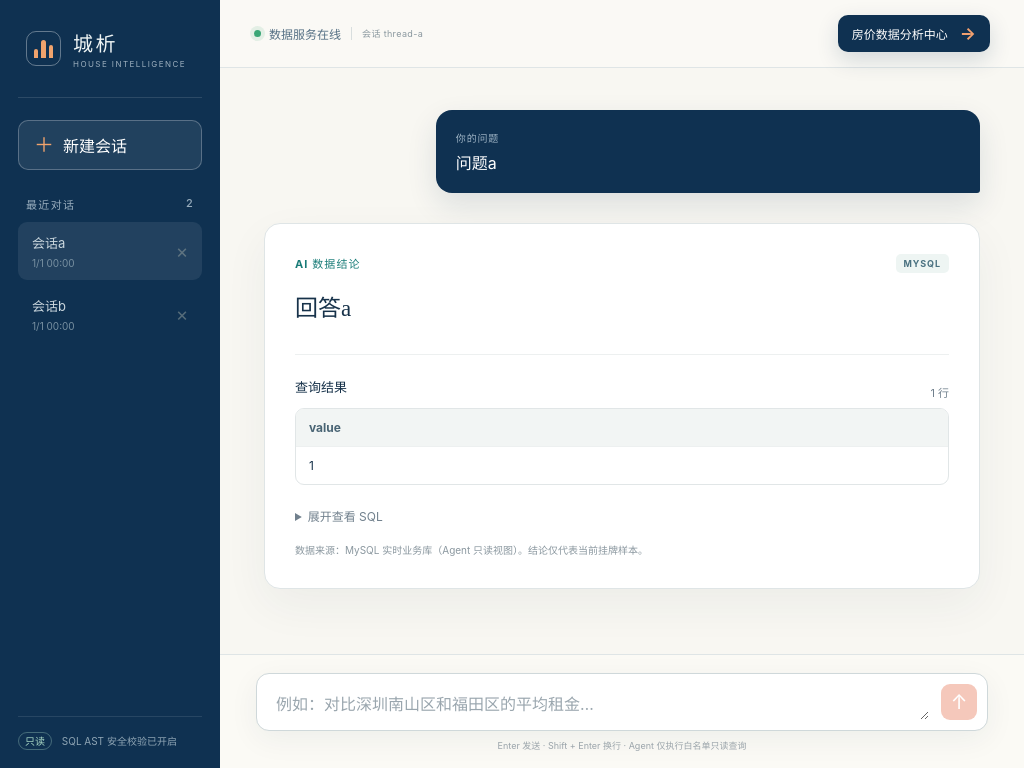
Test case: App conversations › switches between conversations without mixing their turns
The width and height of the screenshot is (1024, 768).
Expected: the text "问题a" is shown, [456, 153, 497, 173]
Click the text "会话b" at (49, 306), box [32, 298, 66, 314]
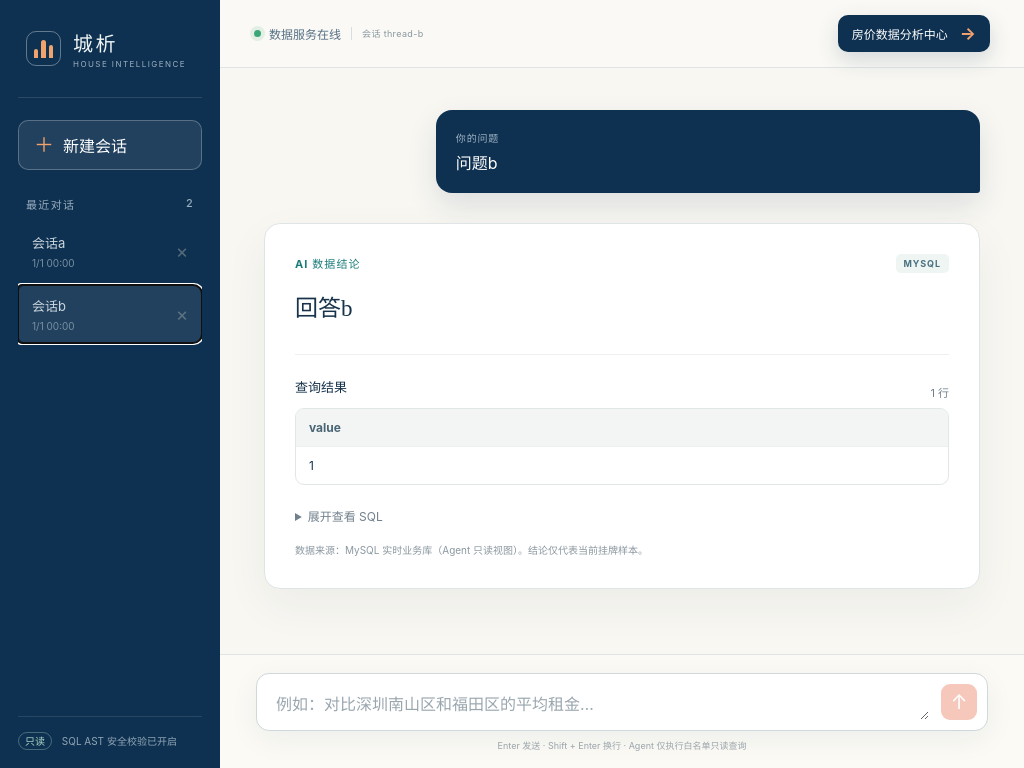
Now the text "问题b" is shown, box [456, 153, 498, 173]
Now the text "问题a" is gone
